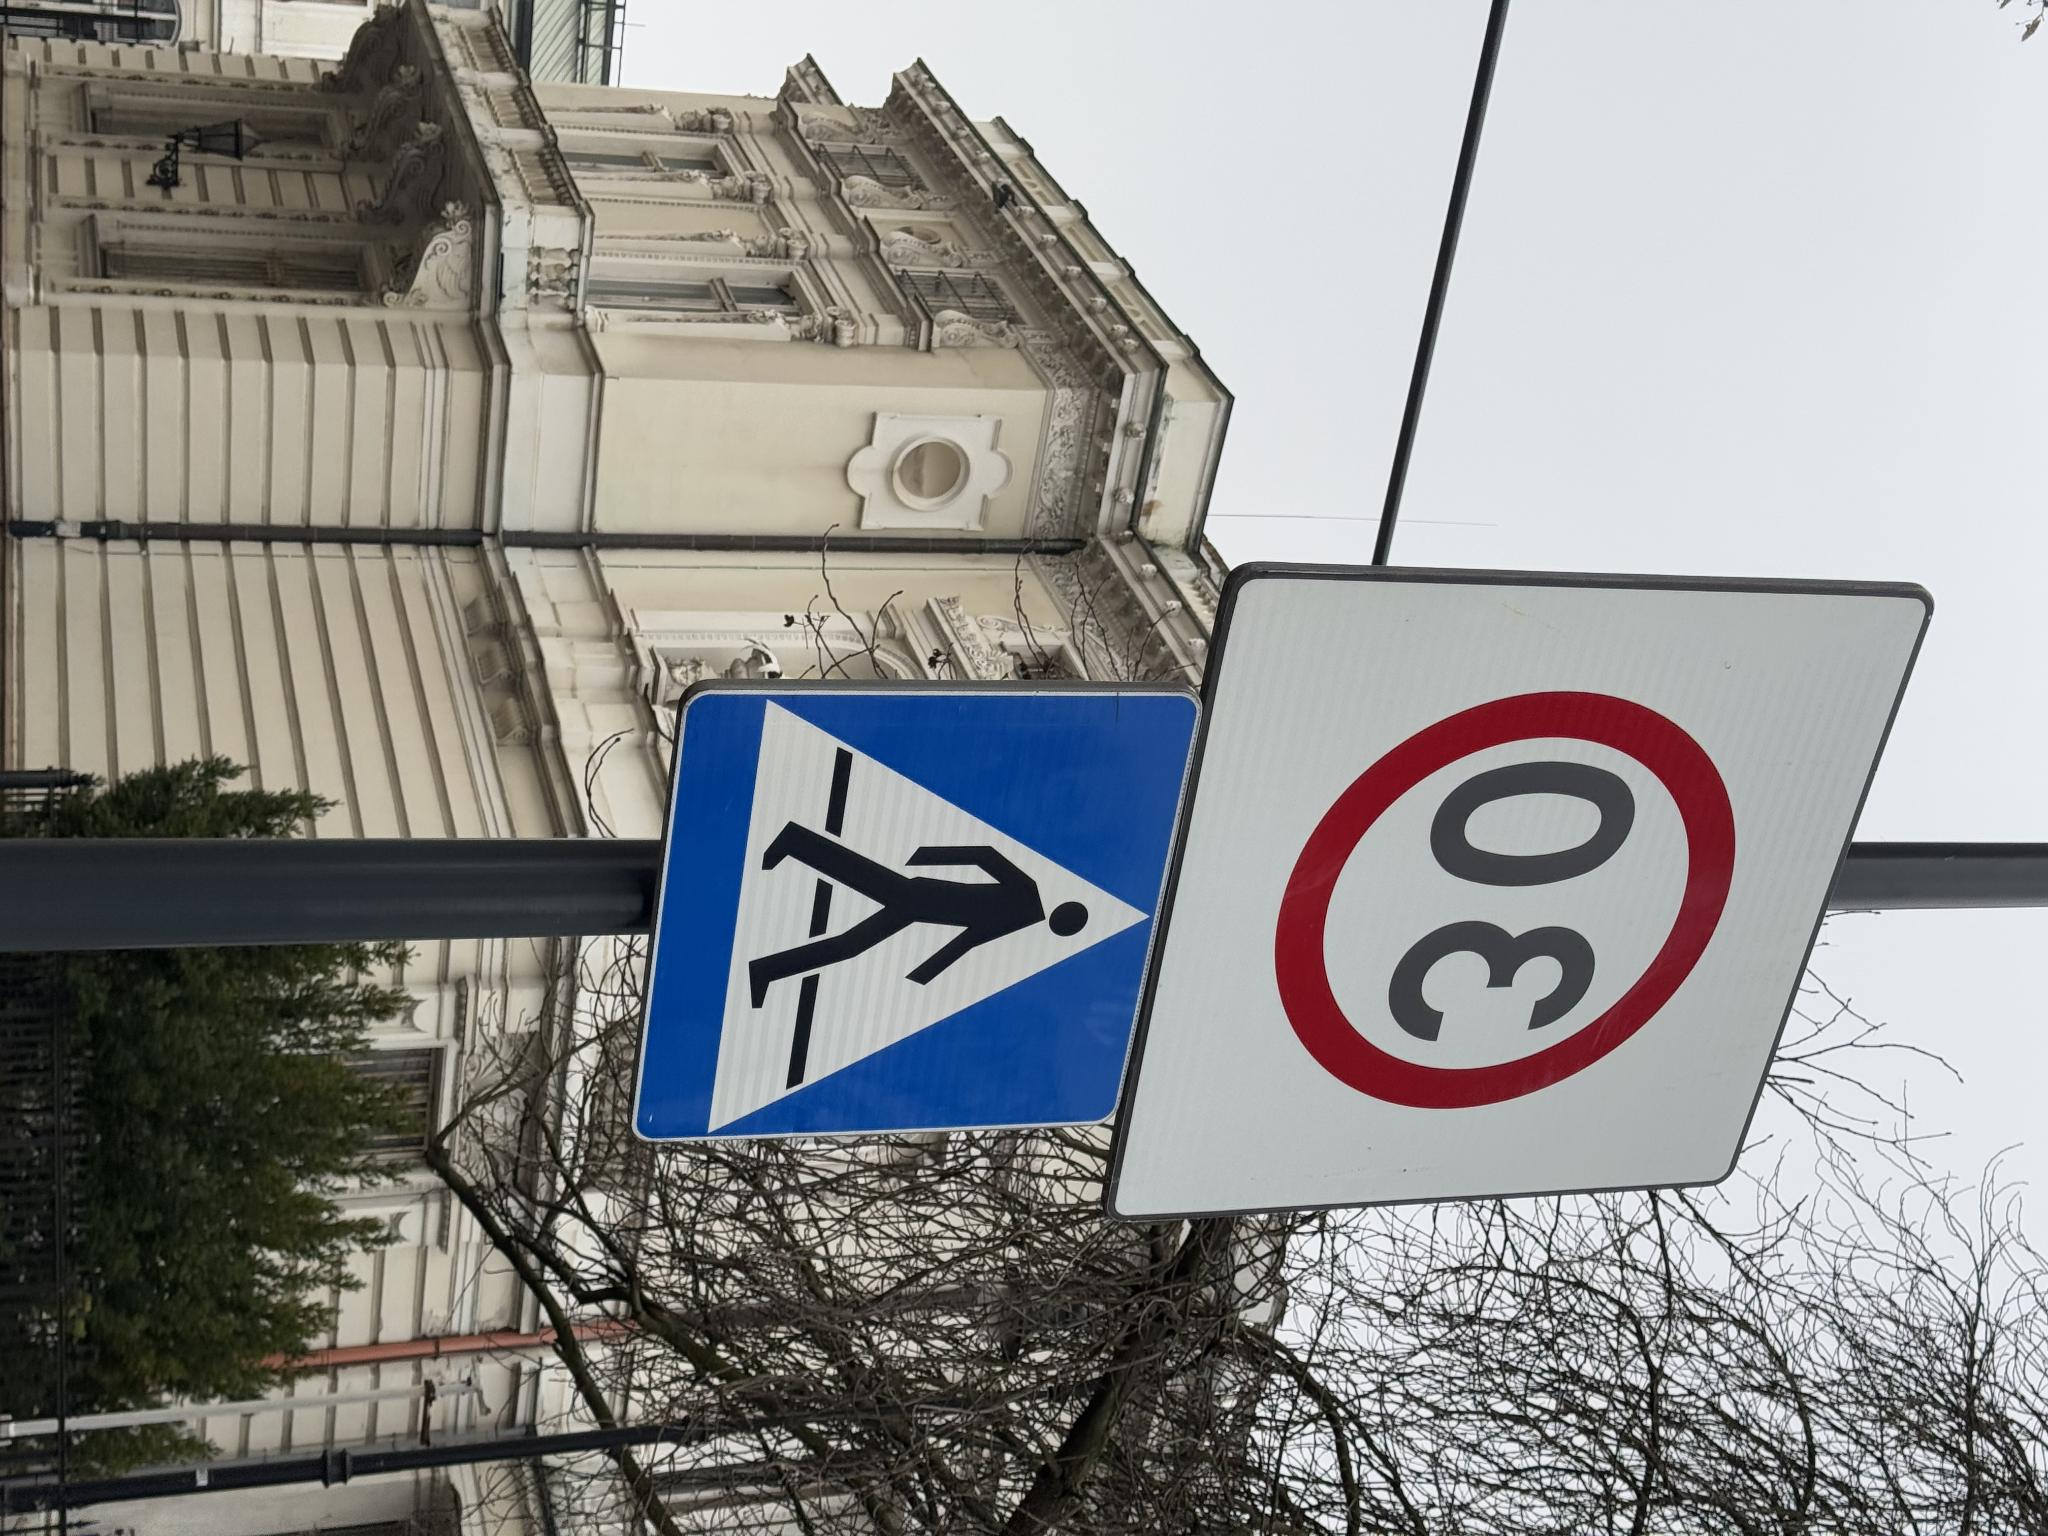information: (1193, 849, 1658, 1425)
prohibitory: (1192, 300, 1624, 779)
